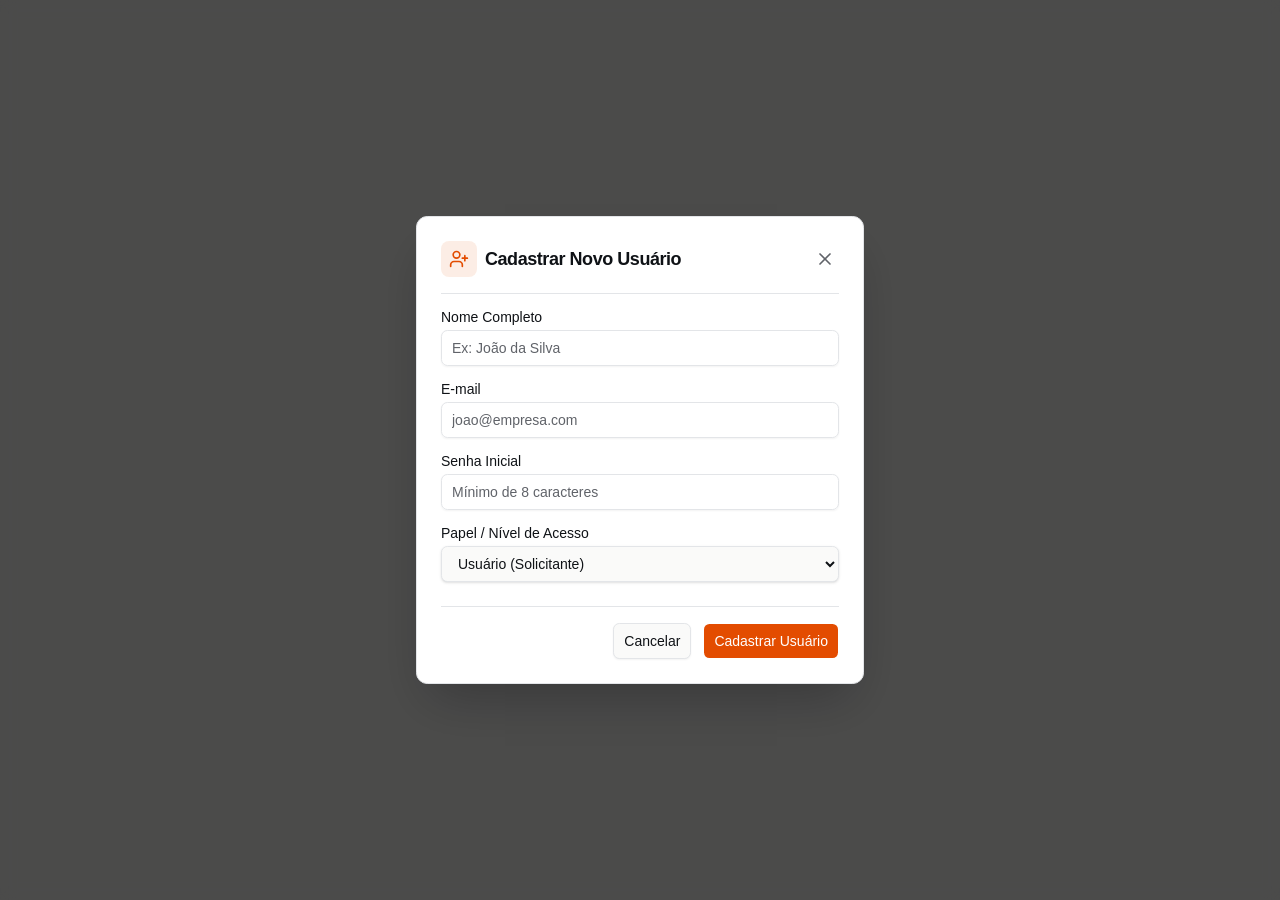
Test: CreateUserModal › deve exibir mensagem de erro quando a API rejeitar a submissão
Type "Fulano Teste" into the field labelled "Nome Completo" at [640, 348], box [441,330,839,366]
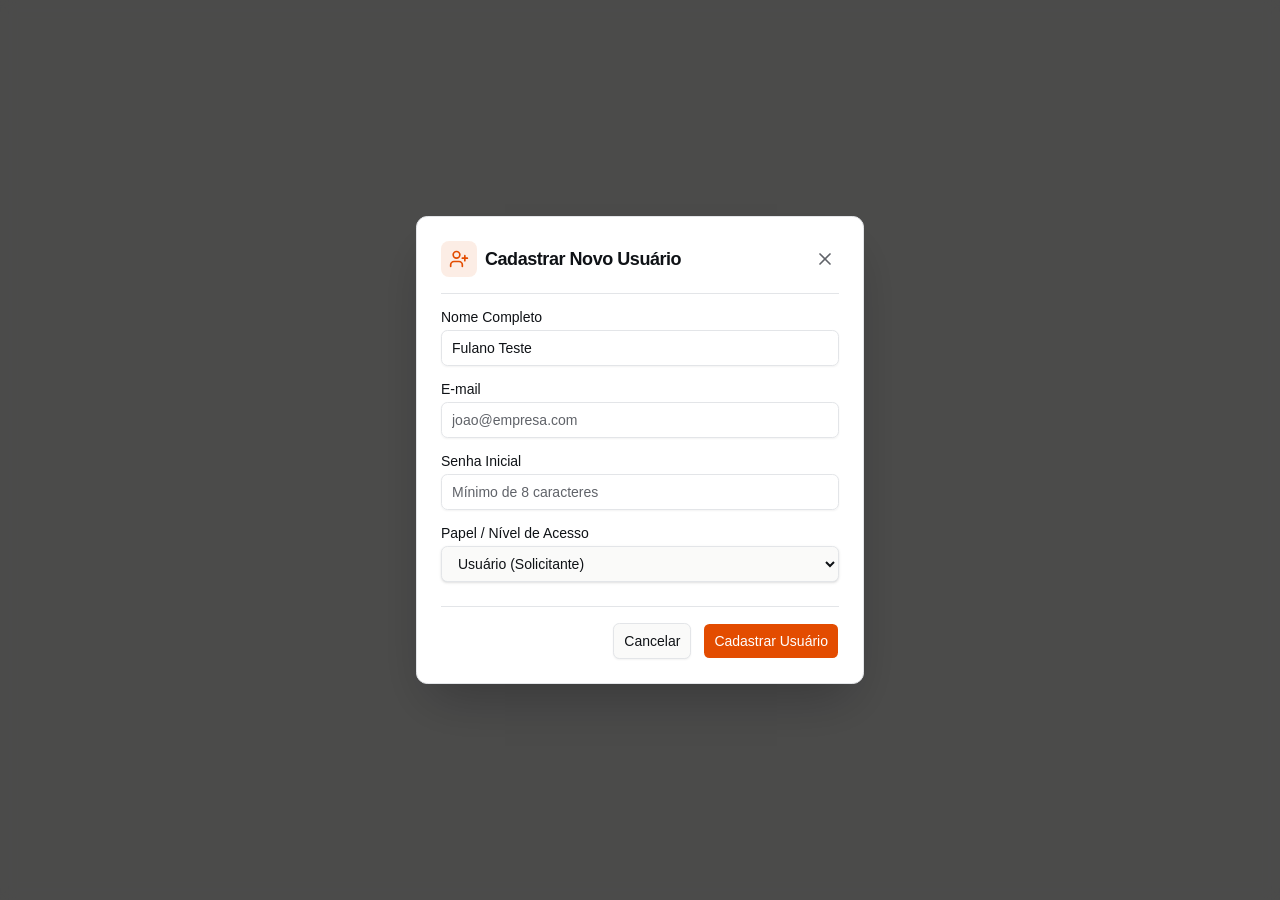
Type "fulano@exemplo.com" into the field labelled "E-mail" at [640, 420], box [441,402,839,438]
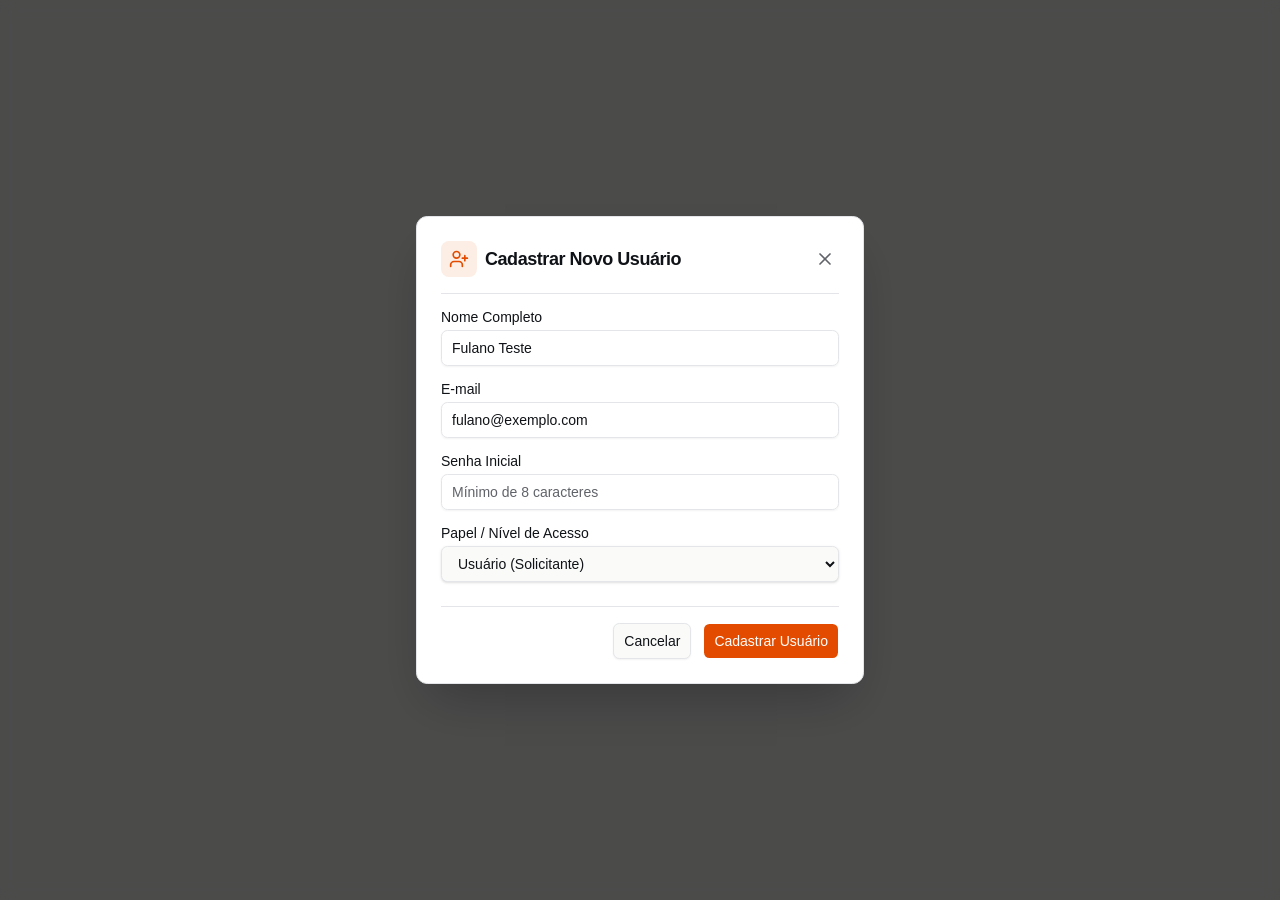
Type "password123" into the password field labelled "Senha Inicial" at [640, 492], box [441,474,839,510]
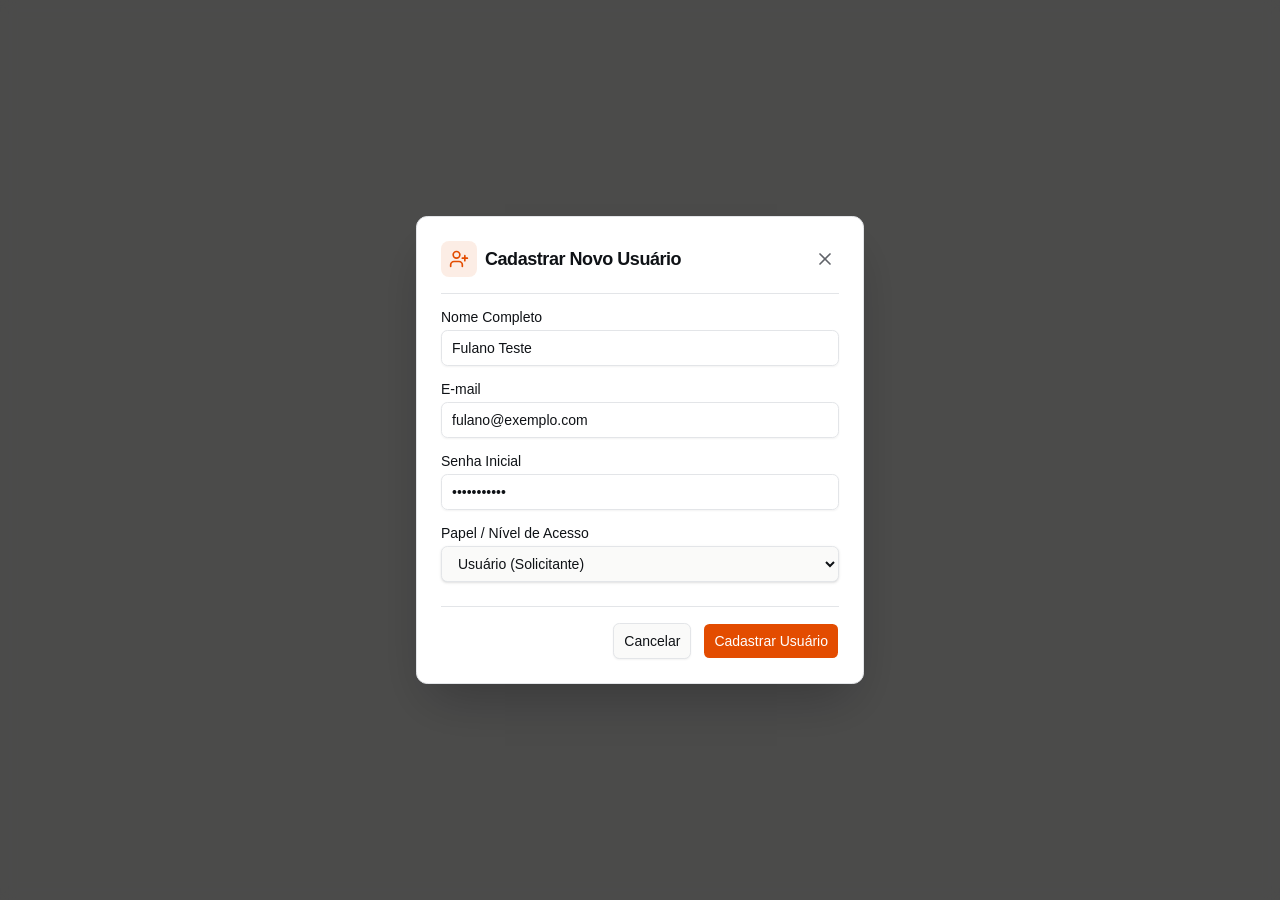
Click the button "Cadastrar Usuário" at [771, 641], box [703,623,839,659]
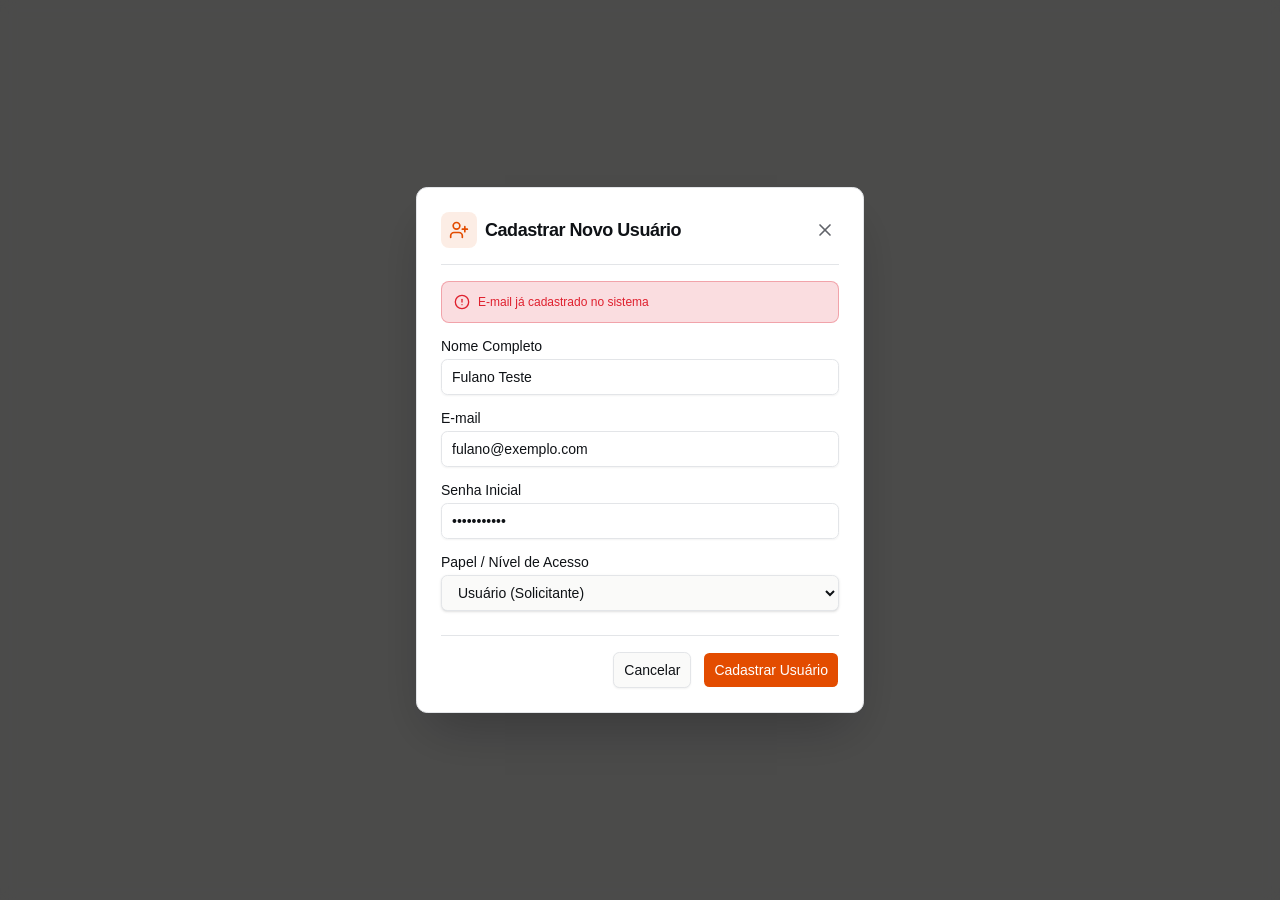
Expected: the text "E-mail já cadastrado no sistema" is shown, [478,294,649,310]
